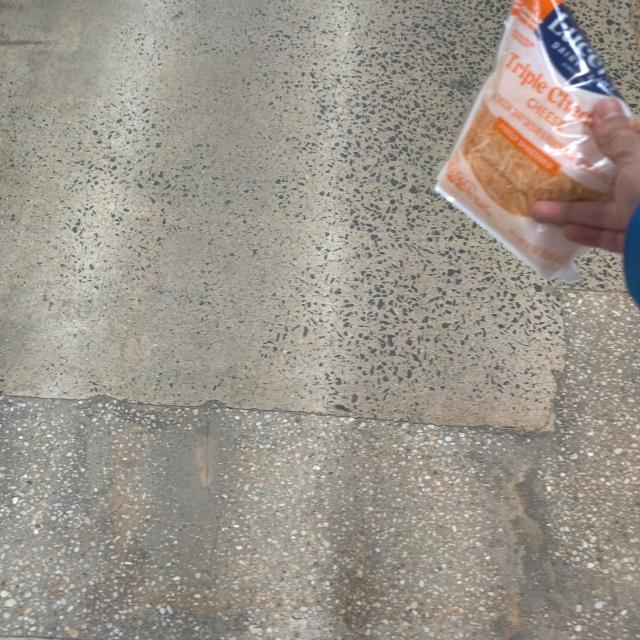Cheese: (432, 0, 640, 273)
